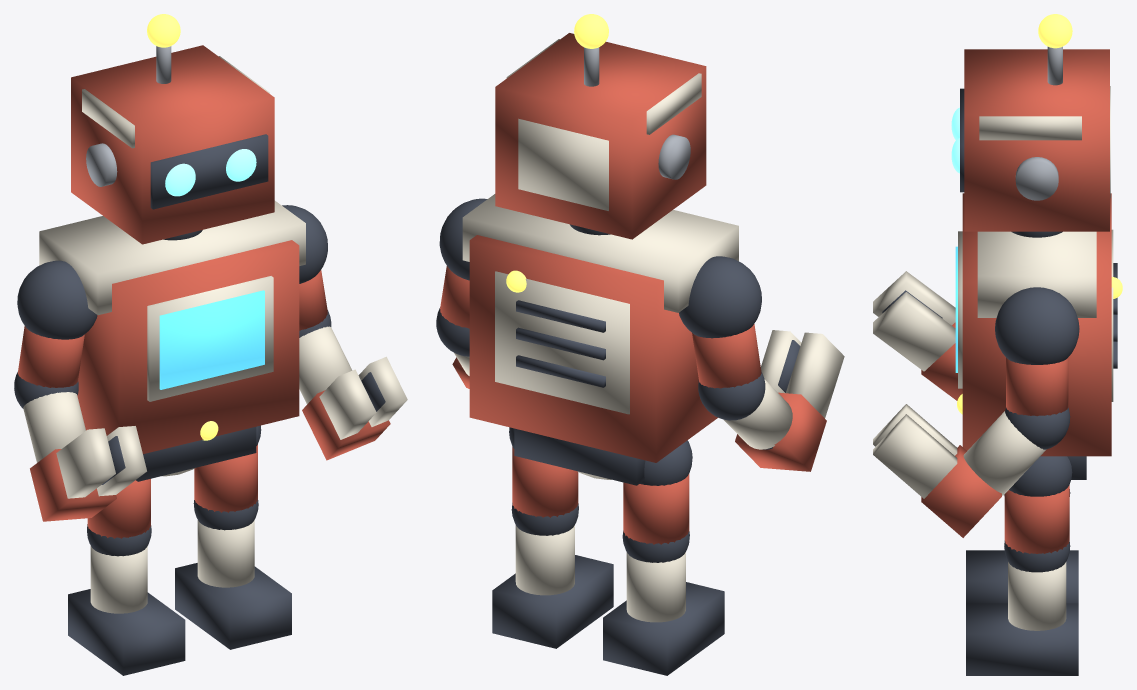
The model's file is robot_v4.glb.
3 views of the same model, side by side, from view 1: azimuth 30°, elevation 25°; view 2: azimuth 150°, elevation 25°; view 3: azimuth 270°, elevation 25° (orthographic). The views are drawn at different scales.
Visible parts, largest first — view 1: head, torso, yoke, chest_screen, foot_L, foot_R, shoulder_L, chest_bezel, visor, shin_L, shin_R, thigh_R (+22 smaller); view 2: head, torso, yoke, back_plate, foot_R, foot_L, head_back, shoulder_L, thigh_L, pelvis, shin_L, shin_R (+20 smaller); view 3: head, torso, yoke, foot_R, shoulder_R, jaw_L_b, jaw_R_b, thigh_R, forearm_R, shin_R, palm_R, upperarm_R (+15 smaller).
Part boxes in pixels (<box>): head: <box>71,45,274,244</box>; torso: <box>77,240,299,454</box>; yoke: <box>39,200,305,315</box>; chest_screen: <box>159,290,264,389</box>; foot_L: <box>68,589,185,675</box>; foot_R: <box>175,563,291,649</box>; shoulder_L: <box>17,260,97,339</box>; chest_bezel: <box>147,276,273,401</box>; visor: <box>150,134,268,209</box>; shin_L: <box>90,546,147,613</box>; shin_R: <box>197,520,254,587</box>; thigh_R: <box>194,444,257,512</box>; head: <box>495,33,706,239</box>; torso: <box>469,235,717,462</box>; yoke: <box>462,194,738,312</box>; back_plate: <box>495,271,629,414</box>; foot_R: <box>492,555,613,648</box>; foot_L: <box>603,582,724,675</box>; head_back: <box>518,118,608,210</box>; shoulder_L: <box>679,256,761,338</box>; thigh_L: <box>623,474,689,544</box>; pelvis: <box>514,428,645,485</box>; shin_L: <box>626,552,685,622</box>; shin_R: <box>515,525,574,595</box>; head: <box>964,49,1109,231</box>; torso: <box>962,193,1111,456</box>; yoke: <box>977,231,1096,317</box>; foot_R: <box>966,603,1078,675</box>; shoulder_R: <box>995,287,1079,364</box>; jaw_L_b: <box>873,292,955,371</box>; jaw_R_b: <box>873,414,957,498</box>; thigh_R: <box>1004,485,1069,553</box>; forearm_R: <box>963,411,1046,495</box>; shin_R: <box>1008,562,1066,630</box>; palm_R: <box>921,445,1001,537</box>; upperarm_R: <box>1006,357,1068,416</box>.
Size of the model in its own units: 1.18 by 2.06 by 0.7552.
